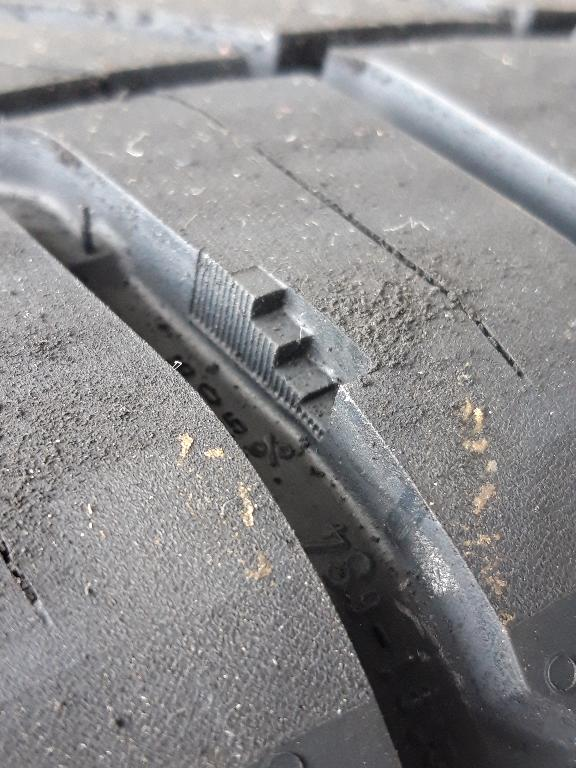temoin:75: (180, 242, 384, 454)
